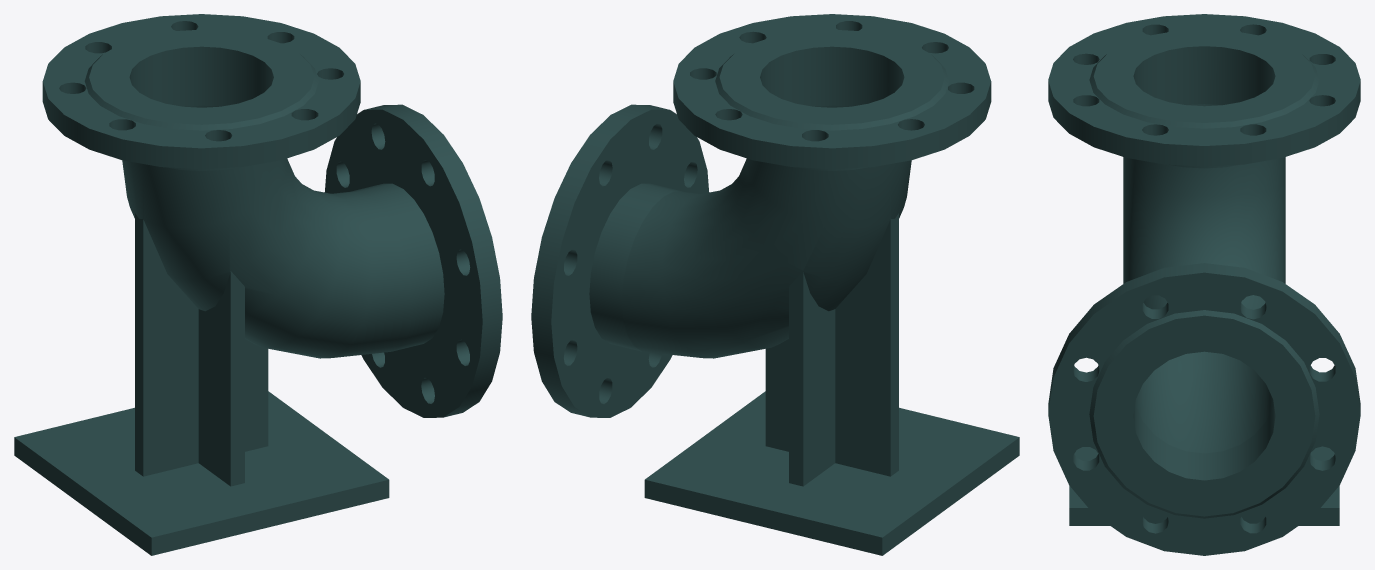
Rendered from duckfb.glb.
The picture shows the model from 3 angles, left to right: view 1: azimuth 30°, elevation 25°; view 2: azimuth 150°, elevation 25°; view 3: azimuth 270°, elevation 25°; orthographic projection.
Parts seen in each view (by area): view 1: RFN---10FL16EET(400); view 2: RFN---10FL16EET(400); view 3: RFN---10FL16EET(400).
Part boxes in pixels (x1,y1,x2,y2): RFN---10FL16EET(400): (14, 14, 502, 555); RFN---10FL16EET(400): (531, 14, 1019, 555); RFN---10FL16EET(400): (1048, 14, 1360, 555).
Size of the model in its own units: 0.29 by 0.305 by 0.22.
